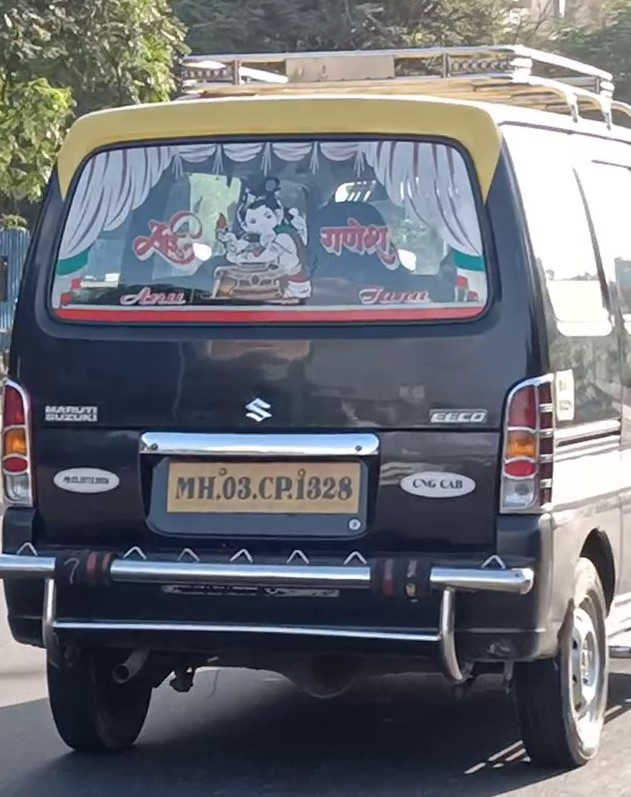MH03CP1328: (168, 459, 360, 516)
